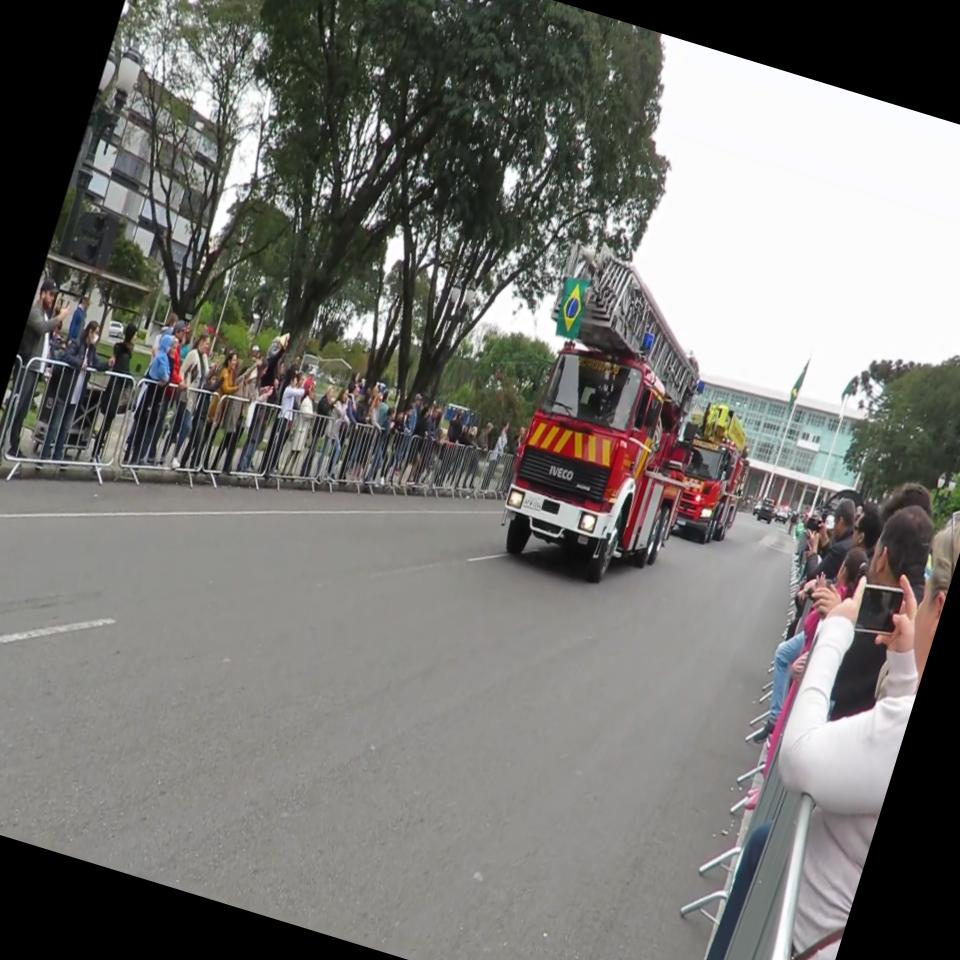viatura: (476, 234, 749, 603), (666, 396, 768, 552)
